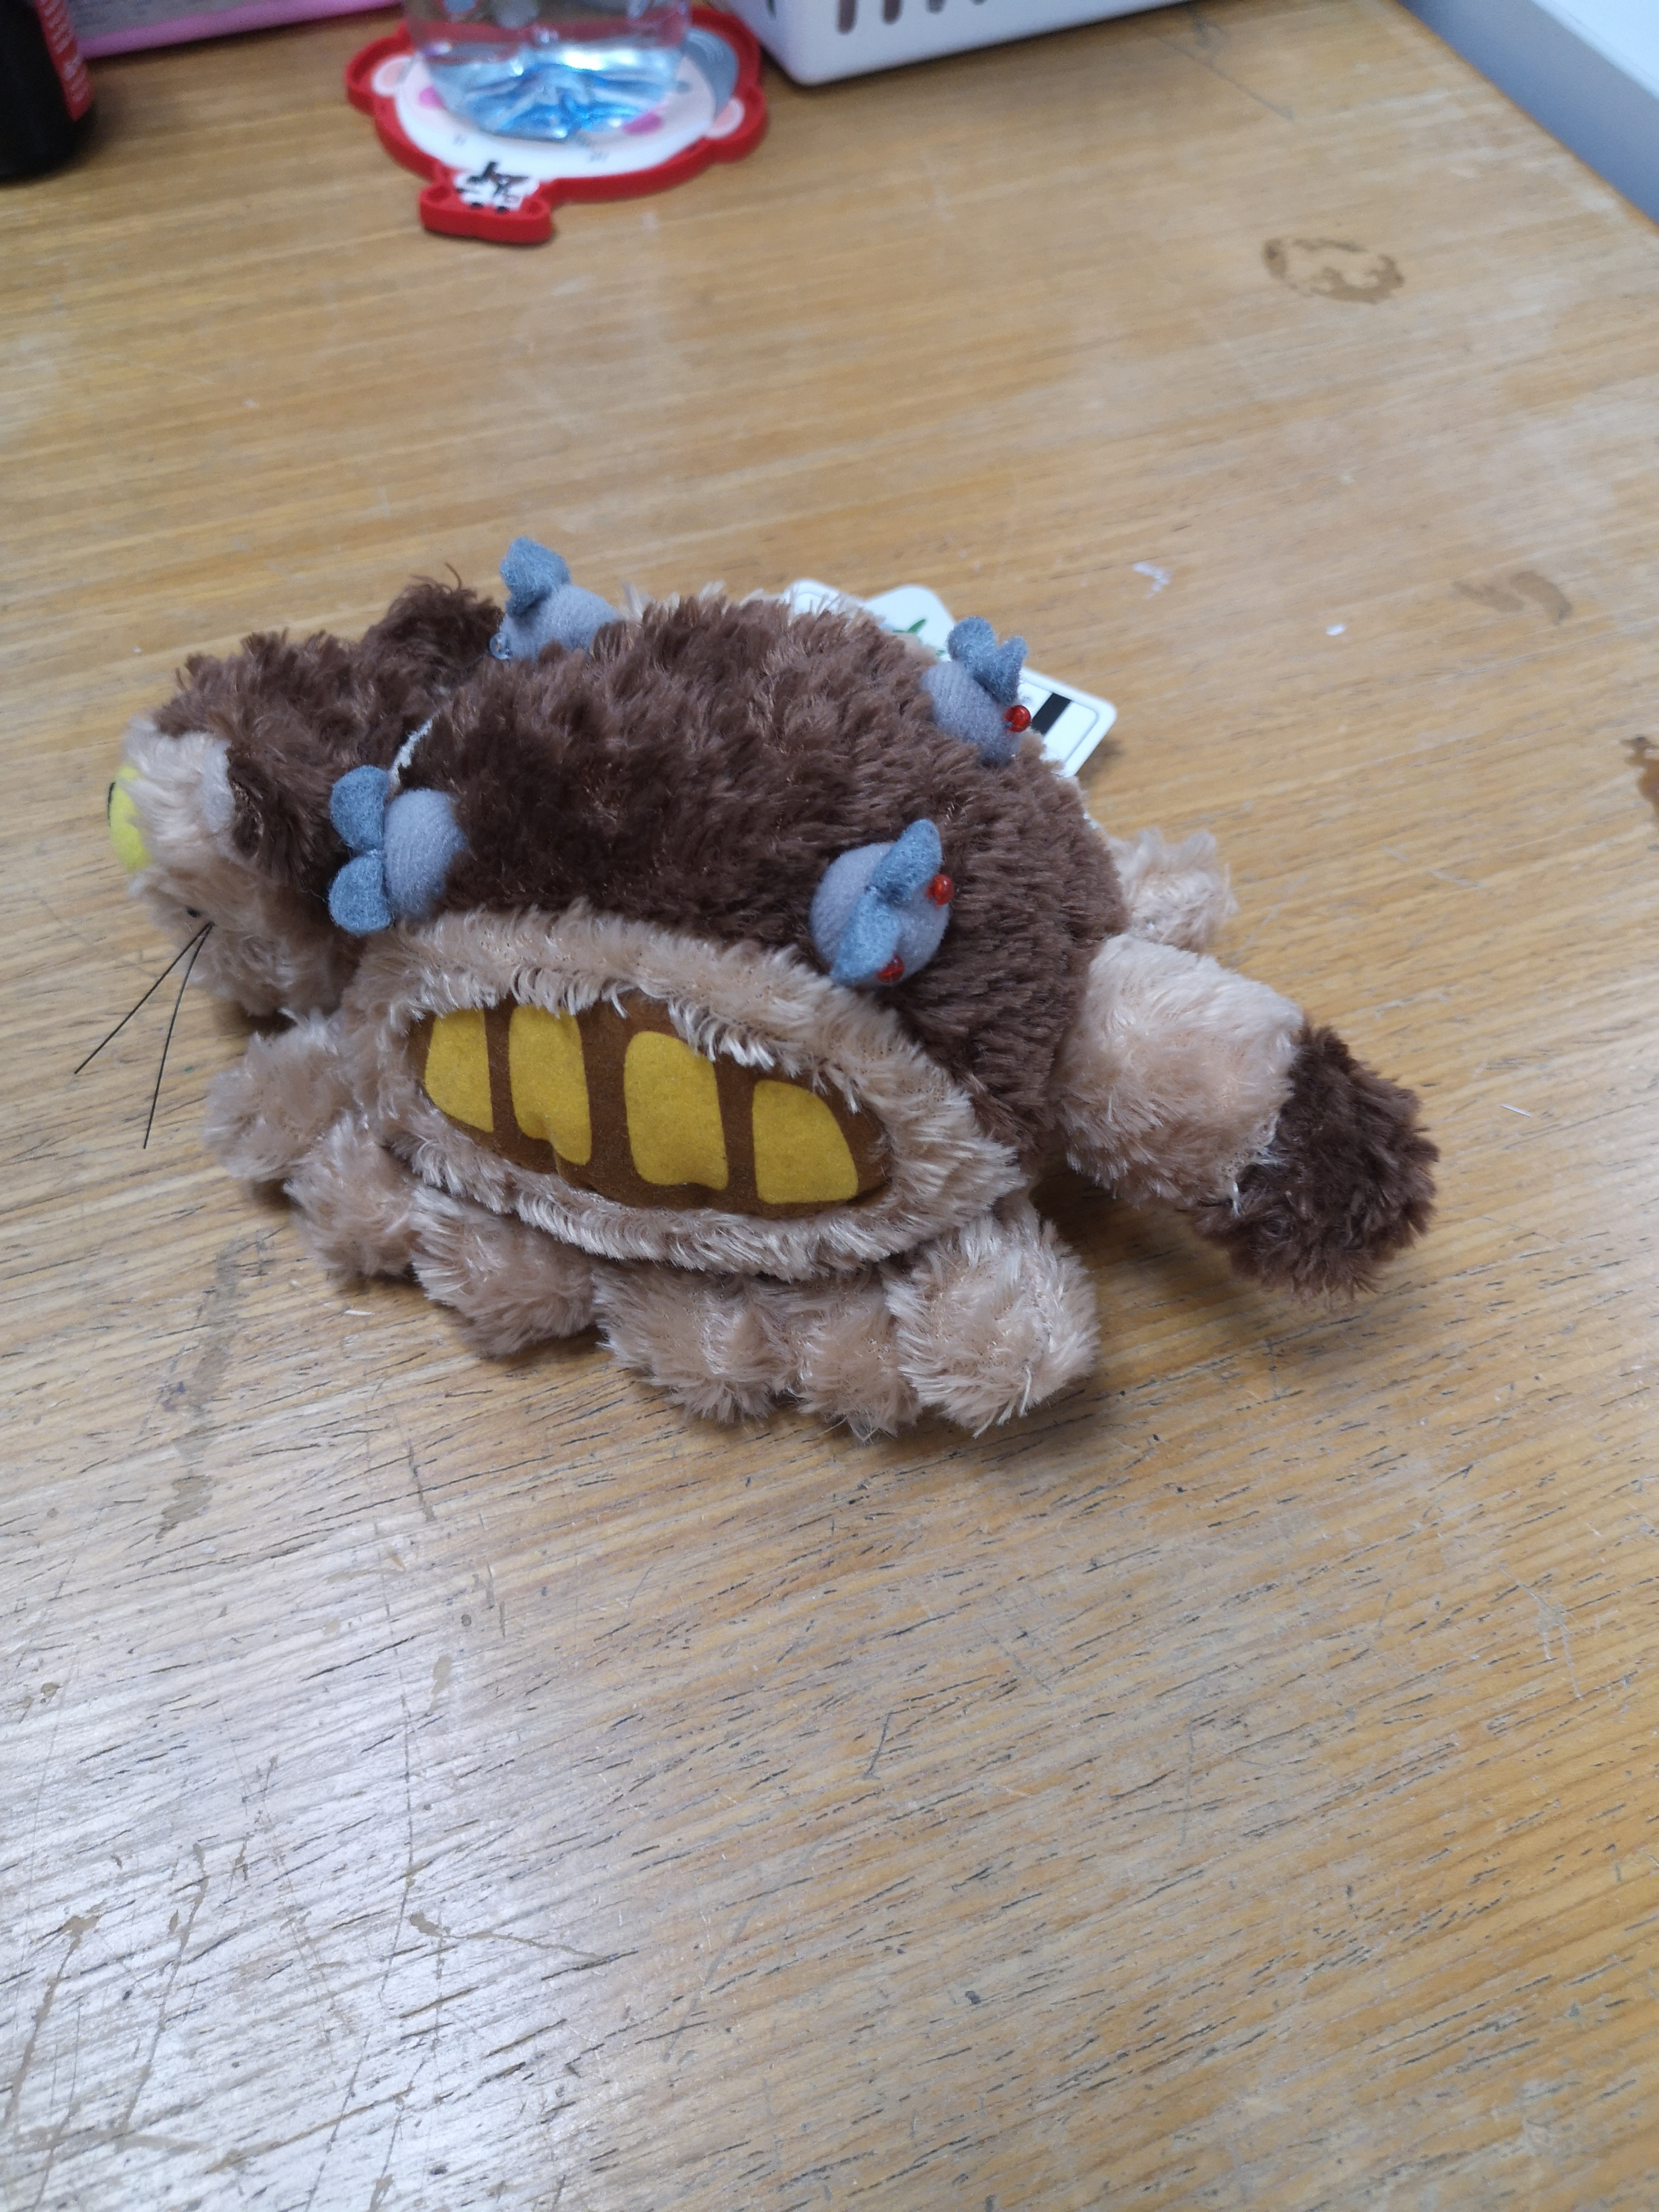nekobus: (56, 528, 1445, 1461)
